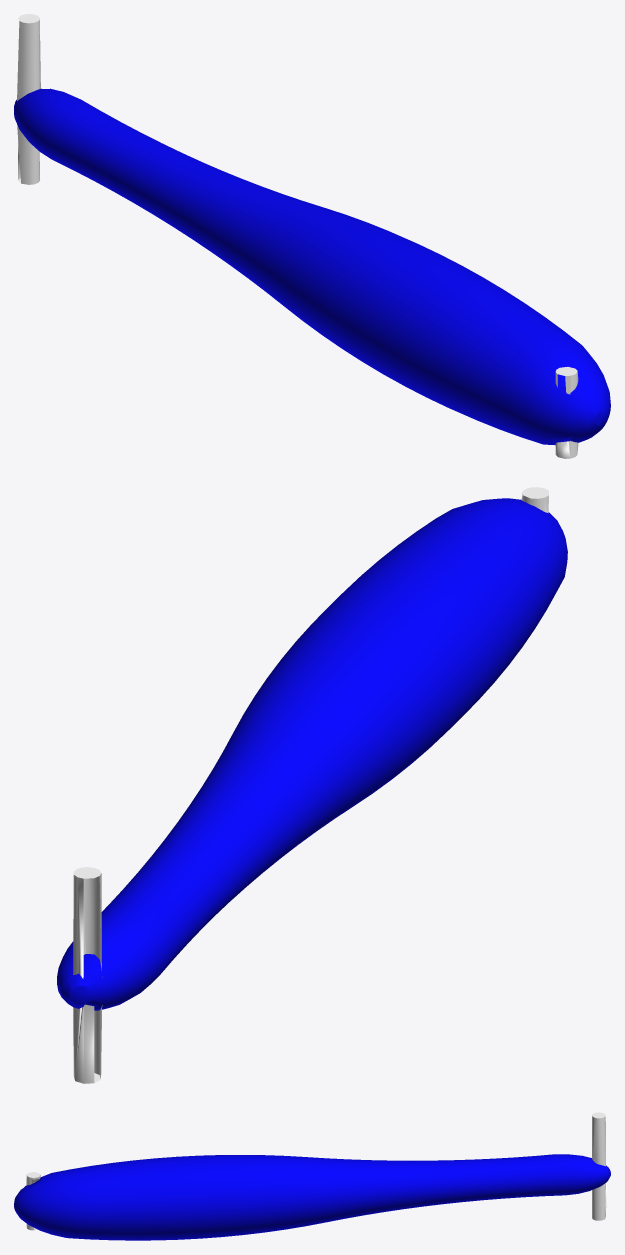
Rendered from leg_right_bot.obj.
3 views of the same model, one above another, from view 1: azimuth 30°, elevation 25°; view 2: azimuth 150°, elevation 25°; view 3: azimuth 270°, elevation 25° (orthographic). The views are drawn at different scales.
Parts seen in each view (by area): view 1: Mesh1 Component_3_1 Model; view 2: Mesh1 Component_3_1 Model; view 3: Mesh1 Component_3_1 Model.
Boxes of the visible parts, x1,y1,x2,y2 form: Mesh1 Component_3_1 Model: (14,14,610,458); Mesh1 Component_3_1 Model: (57,487,567,1083); Mesh1 Component_3_1 Model: (14,1112,610,1240).
Bounding box in the file's own units: 0.0571 × 0.05 × 0.2638.
